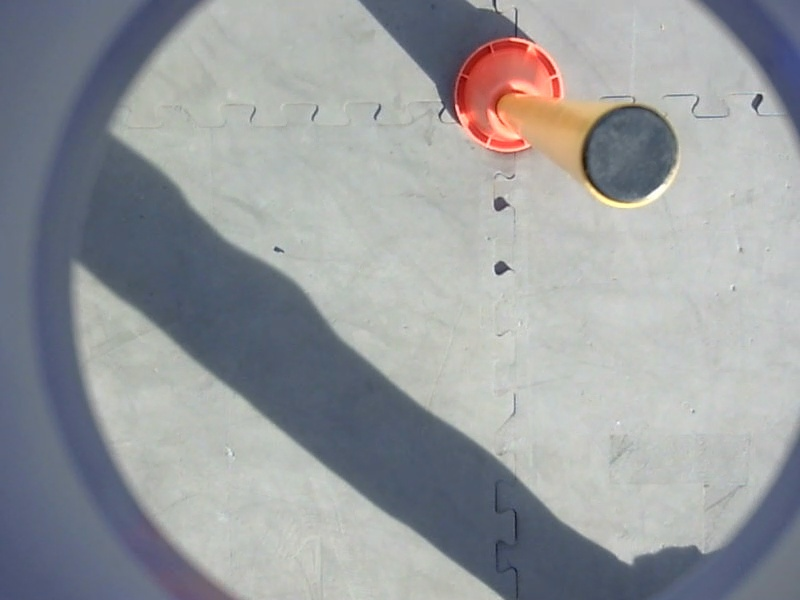tip: (573, 100, 690, 215)
